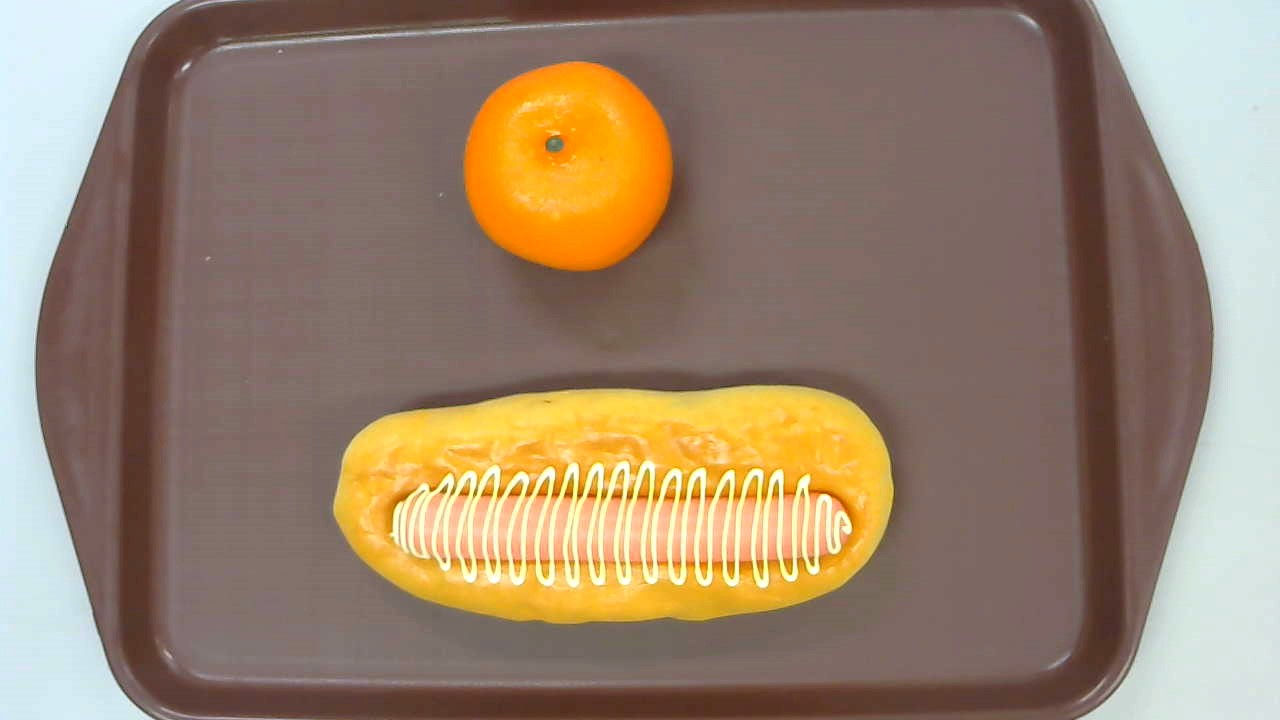hot dog: (330, 384, 893, 622)
orange: (463, 60, 673, 272)
